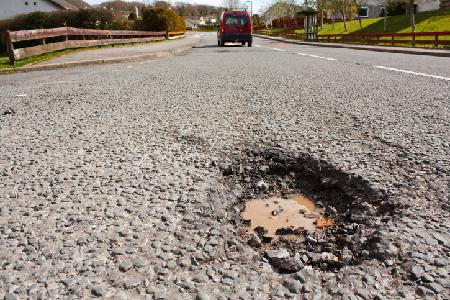pothole: (210, 148, 397, 280)
